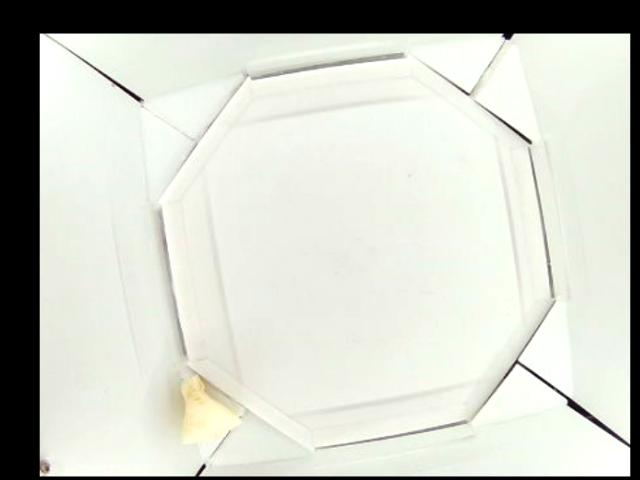Mooli: (179, 373, 243, 446)
